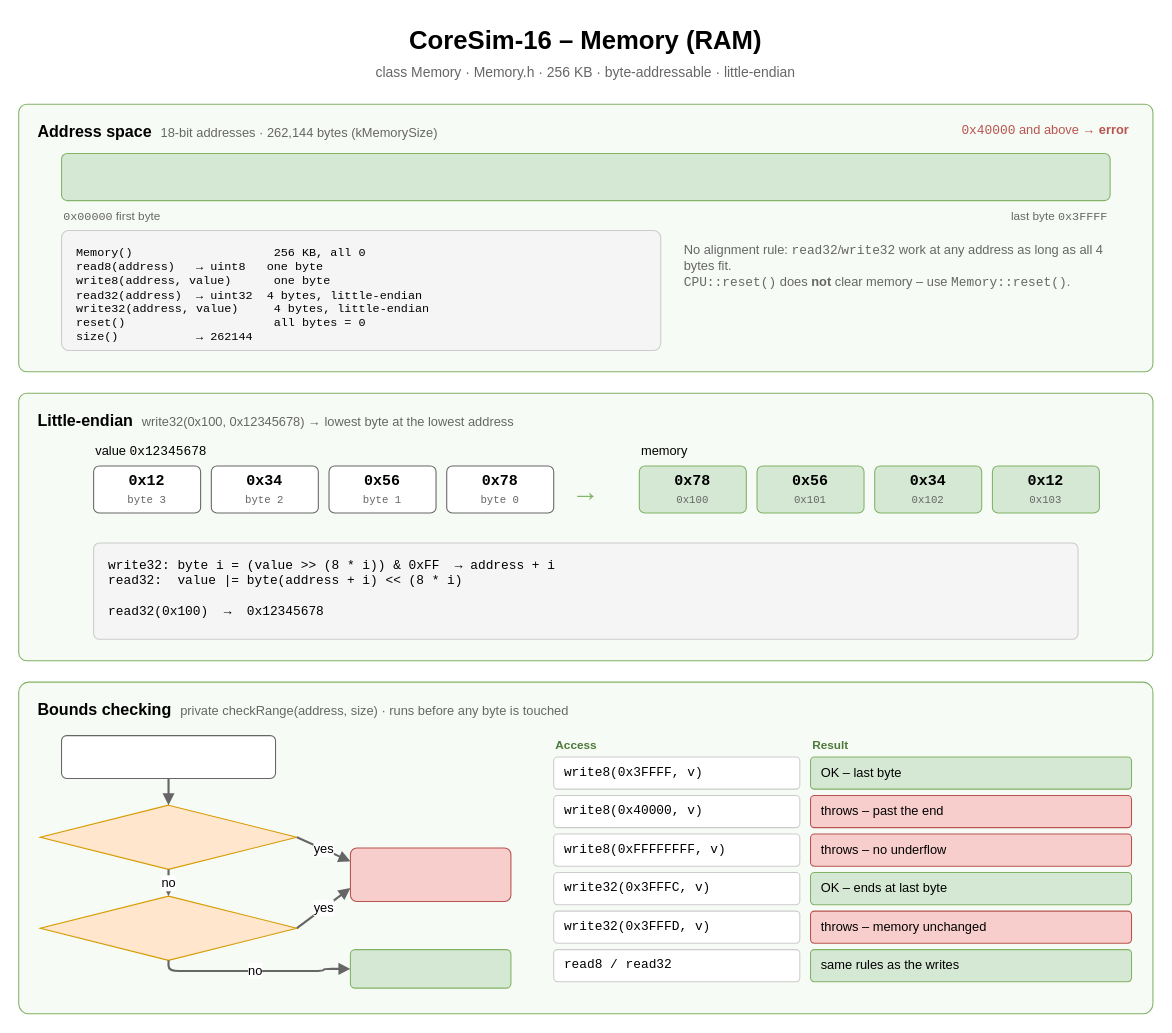
Some shapes in this 1172 by 1033 pixel diagram are drawn without their labels. Here are the shapes that lost their labels. From the top down, the centre of each, then its label:
At (585,176): "RAM · 262,144 bytes · every address holds 1 byte · all bytes start at 0".
At (168,756): "access(address, size)".
At (168,836): "address >= kMemorySize ?".
At (430,874): "throw std::out_of_range".
At (168,927): "size > kMemorySize − address ?".
At (430,968): "read / write".
